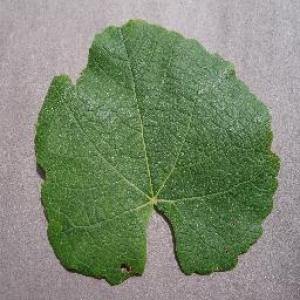Folha: (33, 16, 281, 286)
